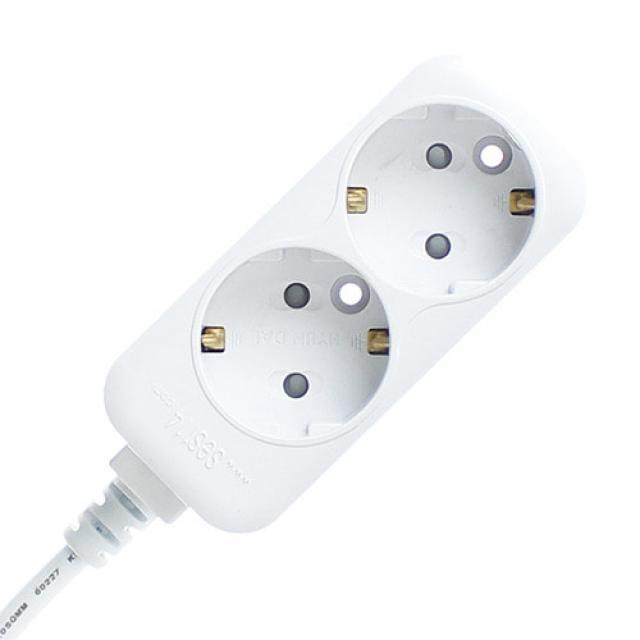typeb: (34, 16, 637, 590)
